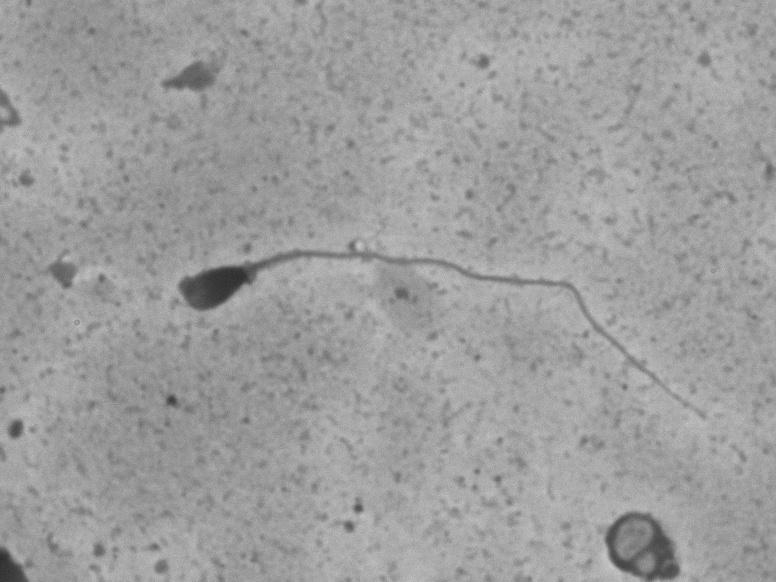Abnormal: (156, 200, 738, 435)
